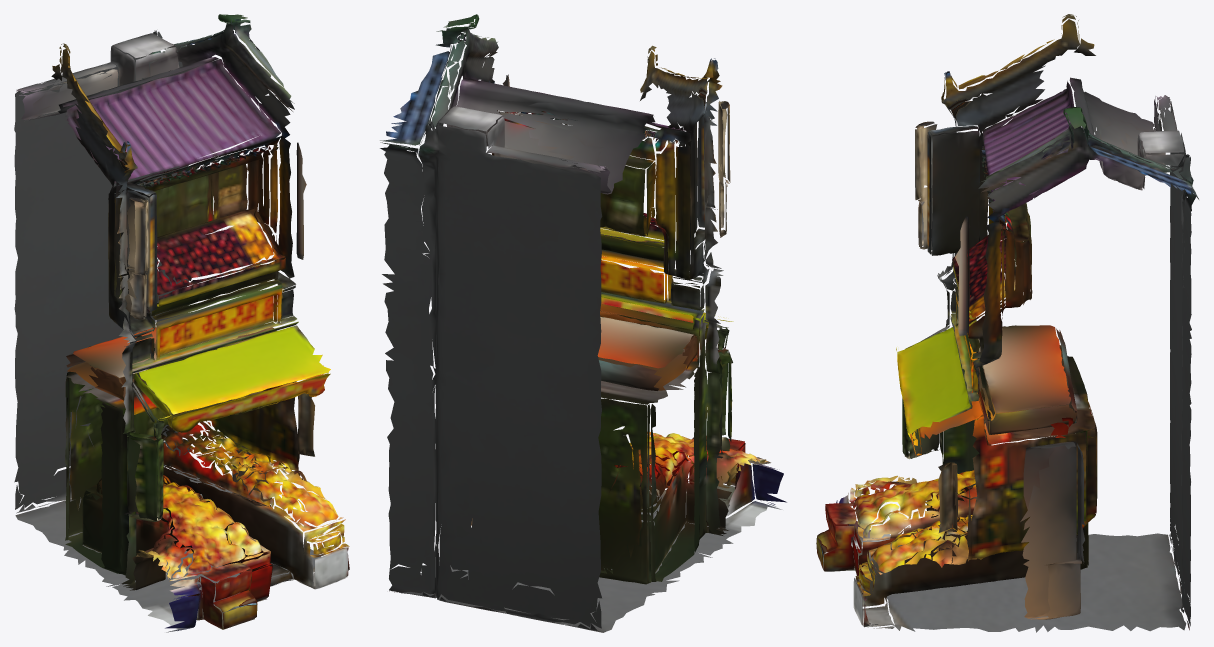
File: Chinatown_House_6.obj
3 views of the same model, side by side, from view 1: azimuth 30°, elevation 25°; view 2: azimuth 150°, elevation 25°; view 3: azimuth 270°, elevation 25° (orthographic). The views are drawn at different scales.
Visible parts, largest first — view 1: model; view 2: model; view 3: model.
Boxes of the visible parts, <box> form: model: <box>14,14,349,632</box>; model: <box>380,14,786,632</box>; model: <box>816,14,1198,632</box>.
Bounding box in the file's own units: 0.1791 × 0.4212 × 0.28.
1 material, 1 textured.
